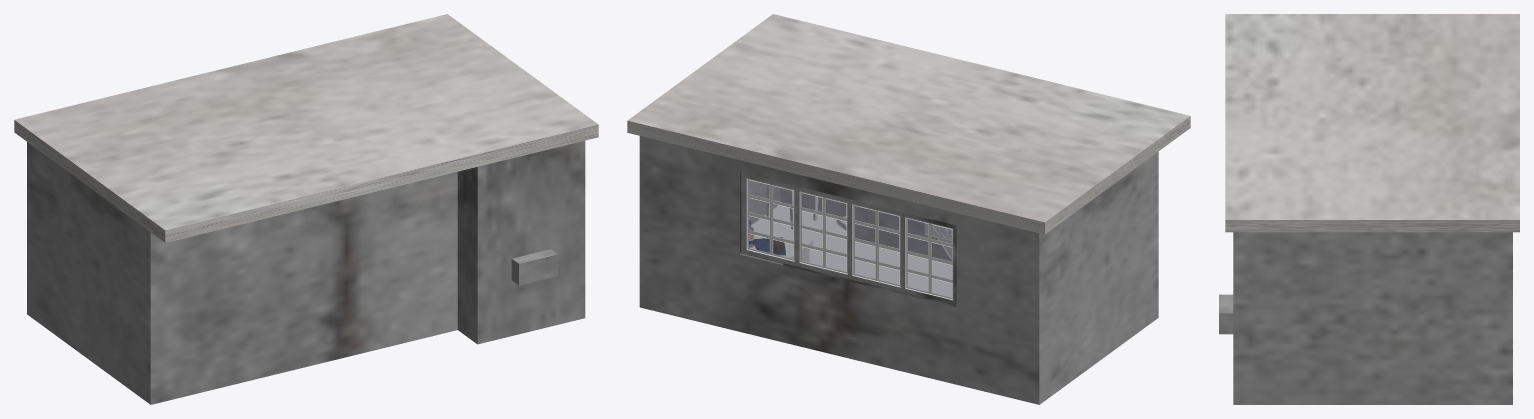
3 views of the same model, side by side, from view 1: azimuth 30°, elevation 25°; view 2: azimuth 150°, elevation 25°; view 3: azimuth 270°, elevation 25° (orthographic). The views are drawn at different scales.
Parts seen in each view (by area): view 1: Walls, celling; view 2: Walls, celling, kithcen furniture; view 3: celling, Walls.
Part boxes in pixels (bbox=[...]): Walls: bbox=[27, 140, 585, 404]; celling: bbox=[14, 14, 598, 242]; Walls: bbox=[639, 136, 1158, 404]; celling: bbox=[627, 14, 1190, 234]; kithcen furniture: bbox=[740, 225, 813, 264]; celling: bbox=[1225, 14, 1519, 232]; Walls: bbox=[1219, 232, 1512, 404].
Size of the model in its own units: 6.48 by 4 by 2.78.
